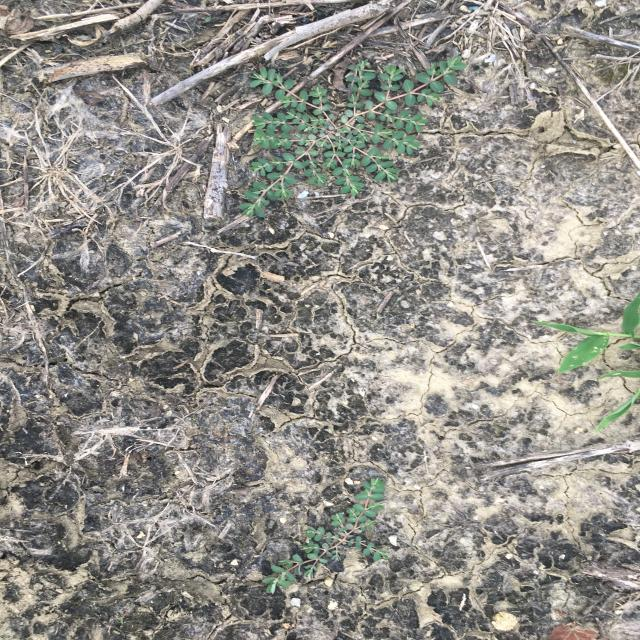SpottedSpurge: (237, 50, 467, 220), (260, 475, 392, 595)
